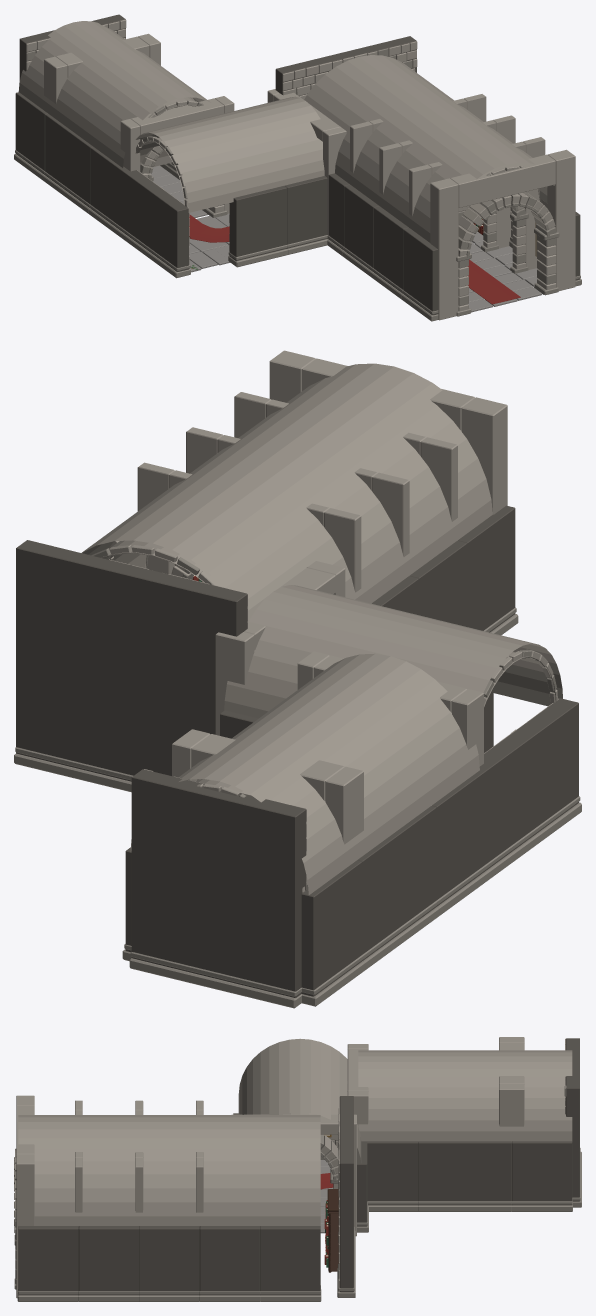
Rendered from final-route-asset-library.glb.
3 renders of one model, top to bottom at view 1: azimuth 30°, elevation 25°; view 2: azimuth 150°, elevation 25°; view 3: azimuth 270°, elevation 25°, orthographic. The views are drawn at different scales.
Parts seen in each view (by area): view 1: ProjectGalleryEntranceArch, SocialVault_02, SocialVault_01, SocialWall_00_01, ProjectGalleryVault_02, ProjectGalleryVault_01, ContactVault_00, SocialVault_00, ContactVault_01, ProjectGalleryVault_03, ProjectGalleryVault_00, ProjectGalleryVault_04 (+28 smaller); view 2: ProjectGalleryEndMasonry, UnfinishedDistantMasonry, ProjectGalleryVault_01, ProjectGalleryVault_02, ContactVault_01, ProjectGalleryVault_04, ContactVault_00, ProjectGalleryVault_03, ProjectGalleryVault_00, SocialVault_00, UnfinishedVaultContinuation, SocialVault_02 (+18 smaller); view 3: ProjectGalleryVault_04, ProjectGalleryVault_03, ProjectGalleryVault_01, ProjectGalleryVault_02, ContactVault_01, ProjectGalleryVault_00, ContactVault_00, ProjectGalleryRightWall_01, ProjectGalleryRightWall_03, UnfinishedVaultContinuation, ProjectGalleryRightWall_04, ProjectGalleryRightWall_00 (+20 smaller).
Boxes of the visible parts, bbox=[...] form: ProjectGalleryEntranceArch: bbox=[430, 149, 575, 320]; SocialVault_02: bbox=[135, 120, 238, 212]; SocialVault_01: bbox=[190, 109, 284, 197]; SocialWall_00_01: bbox=[228, 186, 288, 267]; ProjectGalleryVault_02: bbox=[350, 98, 483, 205]; ProjectGalleryVault_01: bbox=[379, 119, 512, 227]; ContactVault_00: bbox=[93, 75, 210, 167]; SocialVault_00: bbox=[241, 96, 324, 185]; ContactVault_01: bbox=[64, 54, 198, 146]; ProjectGalleryVault_03: bbox=[333, 76, 453, 184]; ProjectGalleryVault_00: bbox=[409, 141, 554, 242]; ProjectGalleryVault_04: bbox=[304, 55, 431, 121]; ProjectGalleryEndMasonry: bbox=[14, 540, 247, 792]; UnfinishedDistantMasonry: bbox=[129, 769, 306, 1008]; ProjectGalleryVault_01: bbox=[238, 399, 457, 575]; ProjectGalleryVault_02: bbox=[190, 434, 409, 603]; ContactVault_01: bbox=[239, 689, 431, 839]; ProjectGalleryVault_04: bbox=[82, 505, 291, 610]; ContactVault_00: bbox=[286, 653, 479, 805]; ProjectGalleryVault_03: bbox=[100, 469, 359, 600]; ProjectGalleryVault_00: bbox=[286, 363, 492, 540]; SocialVault_00: bbox=[224, 585, 379, 718]; UnfinishedVaultContinuation: bbox=[130, 743, 356, 894]; SocialVault_02: bbox=[410, 623, 562, 706]; ProjectGalleryVault_04: bbox=[260, 1115, 320, 1225]; ProjectGalleryVault_03: bbox=[199, 1115, 260, 1225]; ProjectGalleryVault_01: bbox=[78, 1115, 139, 1225]; ProjectGalleryVault_02: bbox=[139, 1115, 199, 1225]; ContactVault_01: bbox=[418, 1050, 479, 1141]; ProjectGalleryVault_00: bbox=[18, 1115, 78, 1225]; ContactVault_00: bbox=[358, 1050, 418, 1141]; ProjectGalleryRightWall_01: bbox=[78, 1226, 139, 1301]; ProjectGalleryRightWall_03: bbox=[199, 1226, 260, 1301]; UnfinishedVaultContinuation: bbox=[512, 1050, 572, 1141]; ProjectGalleryRightWall_04: bbox=[260, 1226, 321, 1301]; ProjectGalleryRightWall_00: bbox=[17, 1226, 78, 1301].
Bounding box in the file's own units: 14.6 × 6.54 × 23.48.
